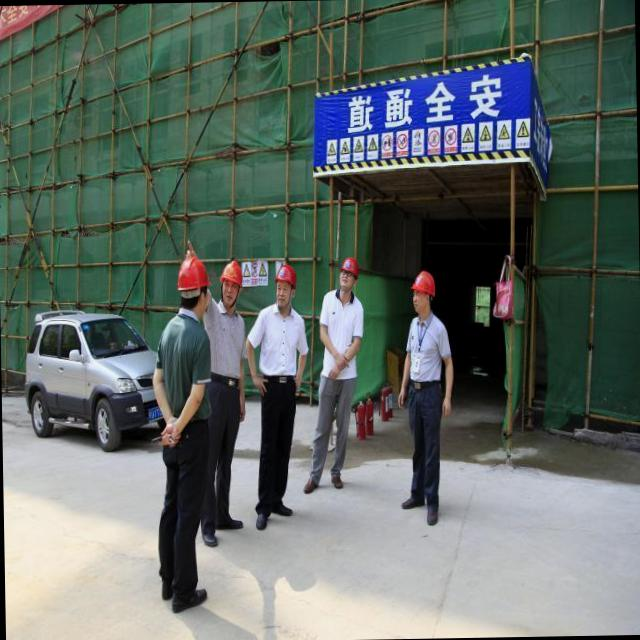boots: (171, 588, 208, 614), (400, 496, 425, 510), (215, 518, 242, 530), (302, 476, 319, 495), (272, 502, 292, 516), (426, 503, 438, 526), (202, 530, 217, 547), (255, 511, 268, 530), (330, 476, 344, 490)
helmet: (176, 254, 210, 288), (410, 270, 436, 299), (218, 260, 242, 290), (338, 256, 359, 280), (274, 264, 295, 288)
no-gloves: (384, 358, 420, 412), (319, 336, 357, 384), (438, 363, 462, 418)
